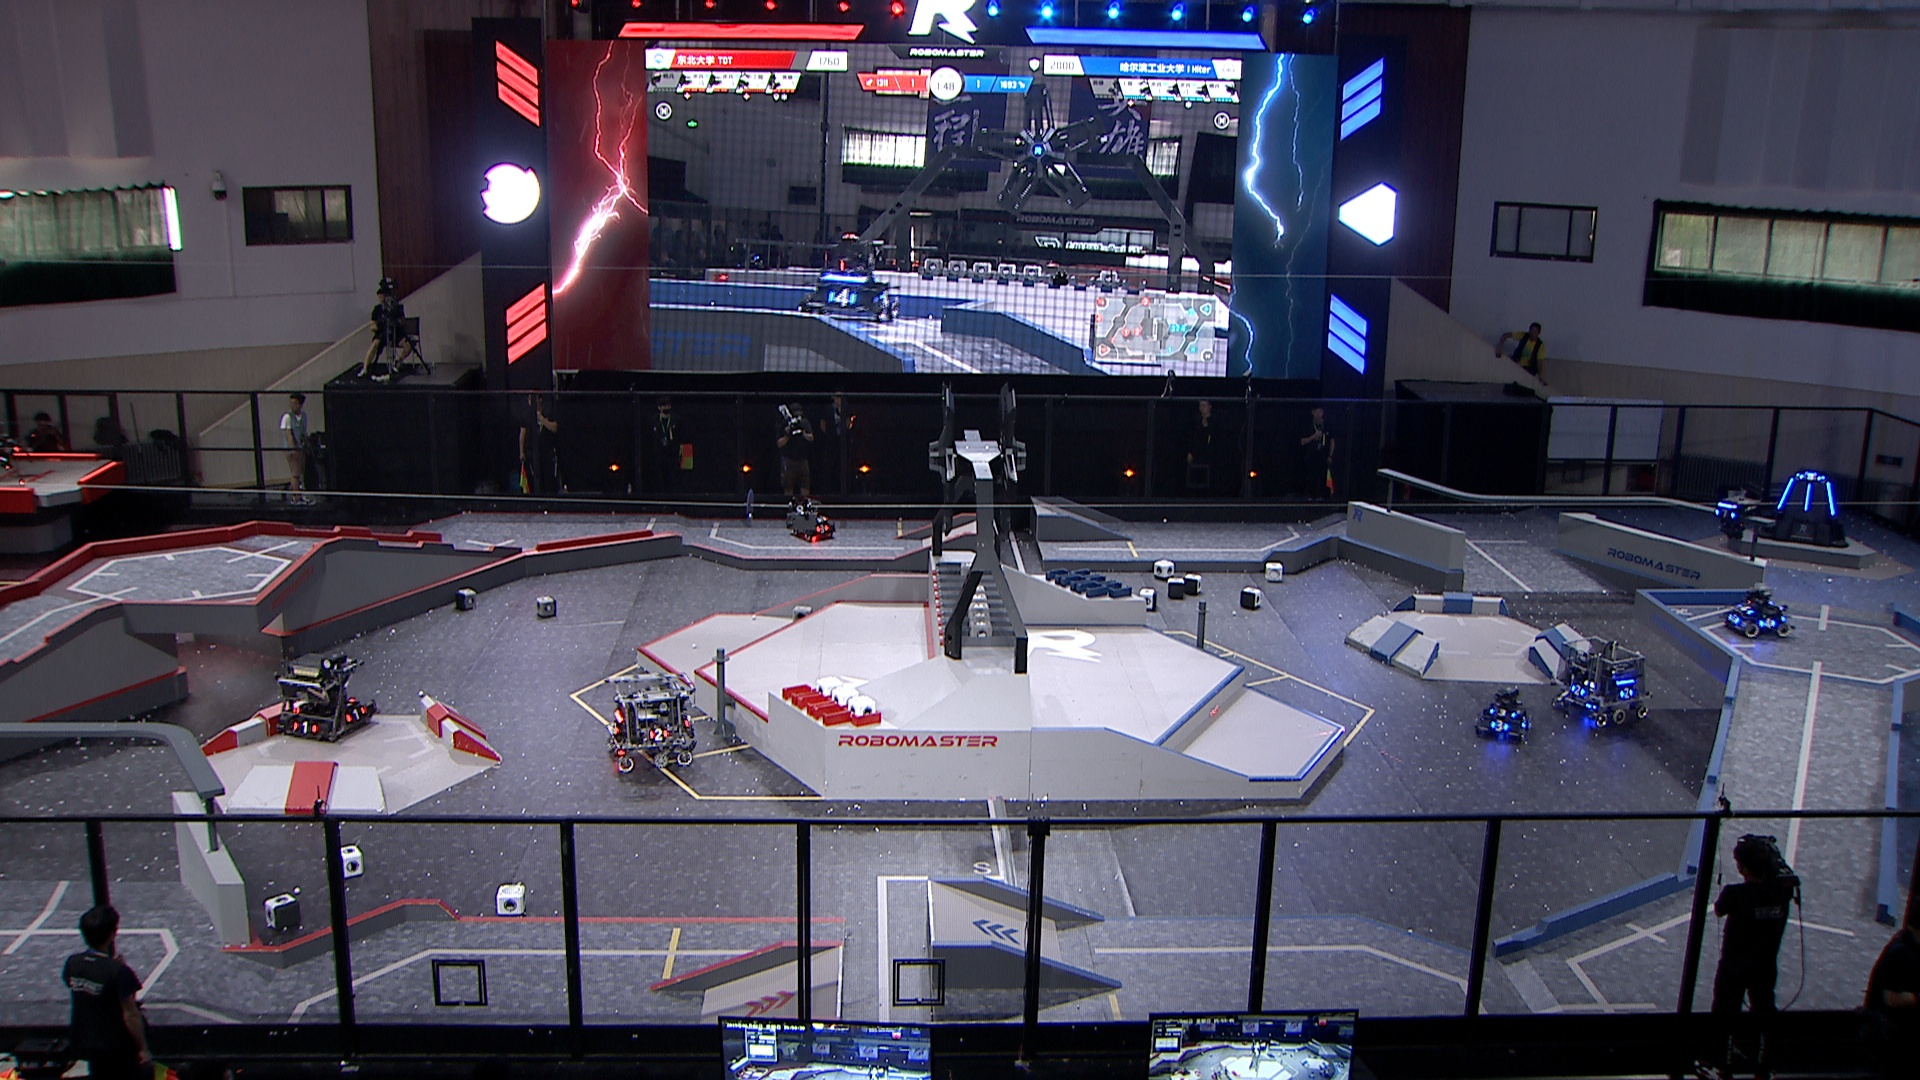armor: (1774, 477, 1797, 512), (1822, 477, 1840, 518), (342, 700, 367, 725), (1712, 504, 1741, 524), (1799, 481, 1815, 513), (1486, 713, 1510, 735), (1487, 705, 1518, 721), (1795, 469, 1826, 483), (647, 727, 670, 744), (291, 721, 320, 735), (1755, 616, 1778, 632), (1569, 680, 1586, 698), (814, 520, 832, 534), (1735, 603, 1755, 616), (605, 721, 621, 737), (1617, 687, 1636, 699), (1727, 611, 1745, 624)
base: (1755, 465, 1851, 551)
car: (1547, 632, 1655, 732), (603, 669, 699, 777), (276, 647, 381, 744), (1720, 580, 1797, 641), (1472, 683, 1534, 744), (787, 496, 837, 545)
ignore: (796, 239, 905, 322)
watcher: (1708, 487, 1762, 545)
